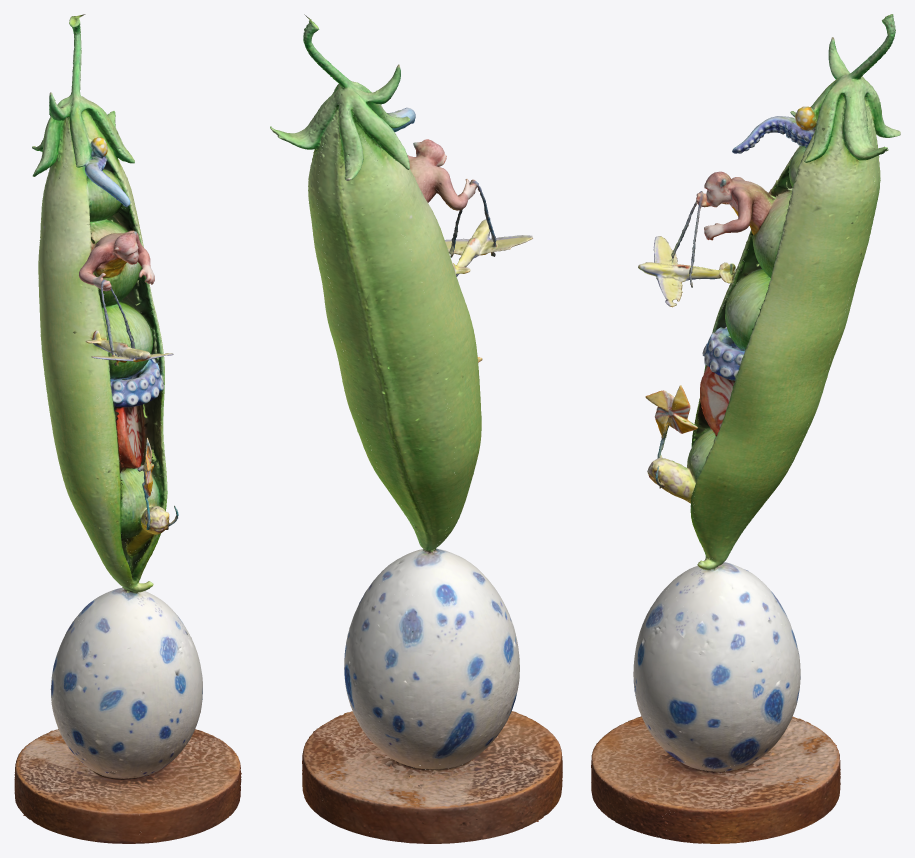
The model's file is sugandh-matar.glb.
3 views of the same model, side by side, from view 1: azimuth 30°, elevation 25°; view 2: azimuth 150°, elevation 25°; view 3: azimuth 270°, elevation 25° (orthographic). The views are drawn at different scales.
Visible parts, largest first — view 1: eggshellwithBeans_001.001, eggshellwithBeans_001.002; view 2: eggshellwithBeans_001.001, eggshellwithBeans_001.002; view 3: eggshellwithBeans_001.001, eggshellwithBeans_001.002.
Part boxes in pixels (<box>): eggshellwithBeans_001.001: <box>14,14,240,843</box>; eggshellwithBeans_001.002: <box>32,18,241,843</box>; eggshellwithBeans_001.001: <box>270,14,562,843</box>; eggshellwithBeans_001.002: <box>303,20,532,770</box>; eggshellwithBeans_001.001: <box>591,14,900,843</box>; eggshellwithBeans_001.002: <box>591,15,900,837</box>.
Bounding box in the file's own units: 0.1436 × 0.5 × 0.1771.
Materials: 2 (2 with a texture image).
